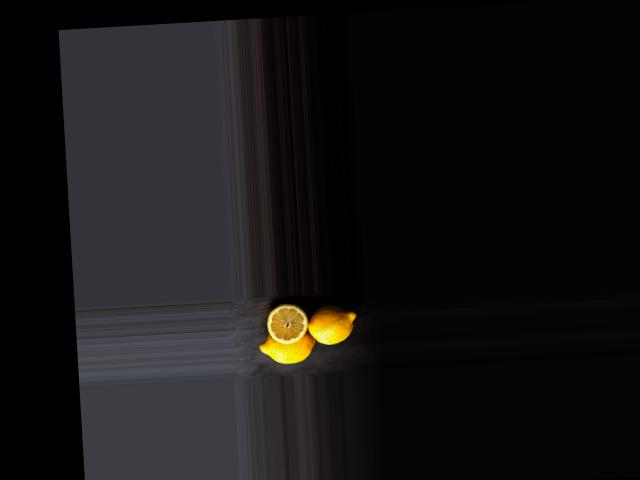lemon: (255, 327, 317, 370)
